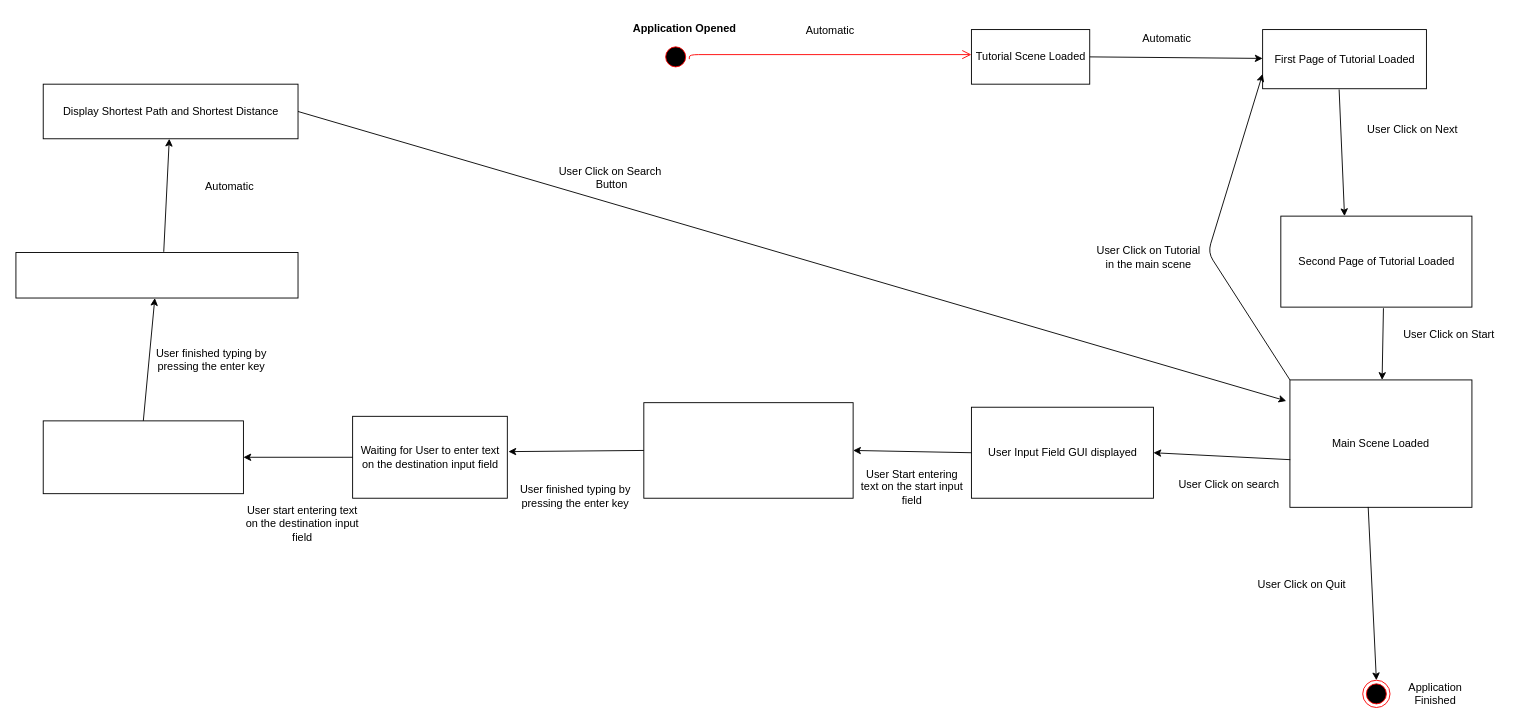
Some shapes in this 1524 by 727 pixel diagram are drawn without their labels. Each missing label, with the centre of its shape:
Display Automatic suggestion On the destination DropDown Menu: (x=142, y=457)
Display Automatic Suggestion On the Start DropDown Menu: (x=748, y=450)
Invoking Dijkstra and findShortestPath Algorithm: (x=156, y=275)
